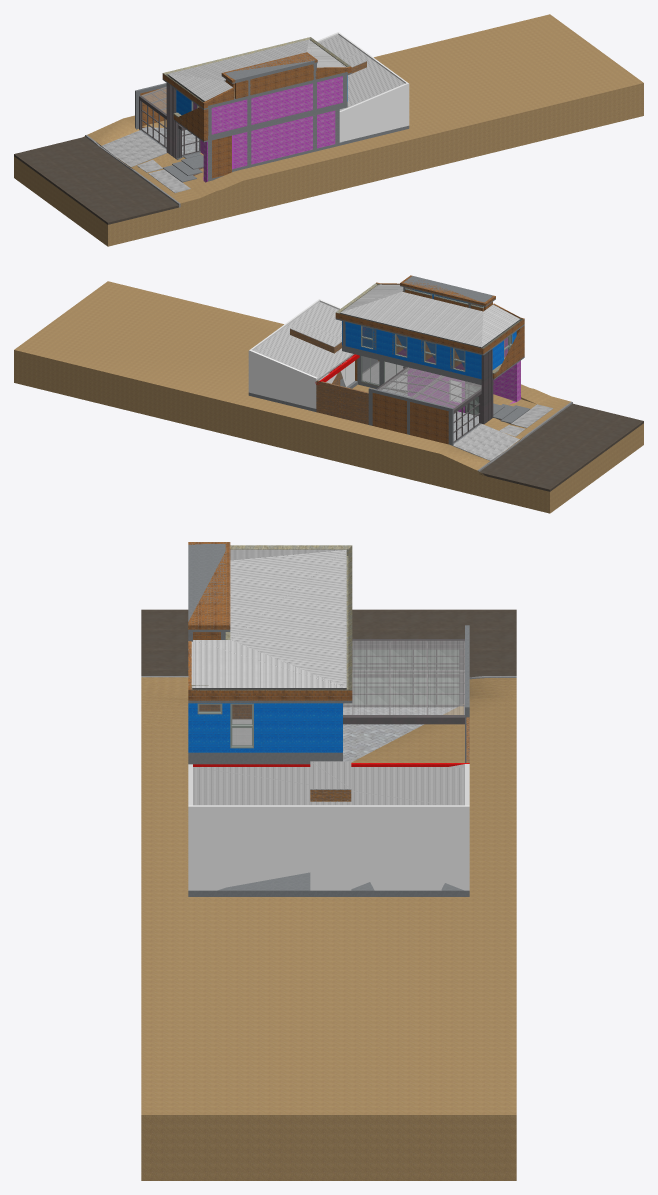
3 views of the same model, one above another, from view 1: azimuth 30°, elevation 25°; view 2: azimuth 150°, elevation 25°; view 3: azimuth 270°, elevation 25° (orthographic). The views are drawn at different scales.
Parts seen in each view (by area): view 1: Mesh262 Diferencia Group73 Group70 Group69 Group33 Group1 Mo, Mesh342 Group123 Group70 Group69 Group33 Group1 Model, Mesh30 Group32 Group2 Group1 Model, Mesh345 Group127 OuterShell Group124 Group70 Group69 Group33, Mesh297 Diferencia6 Group74 Group70 Group69 Group33 Group1 M, Mesh364 Group130 Group129 Group128 Group124 Group70 Group69 , Mesh302 Diferencia6 Group74 Group70 Group69 Group33 Group1 M, Mesh329 Group110 Group108 Group74 Group70 Group69 Group33 Gr, Mesh311 Diferencia7 Group74 Group70 Group69 Group33 Group1 M, Mesh300 Diferencia6 Group74 Group70 Group69 Group33 Group1 M, Mesh466 Group162 Componente_3_1 Group1 Model, Mesh467 Group163 Componente_3_1 Group1 Model (+15 smaller); view 2: Mesh262 Diferencia Group73 Group70 Group69 Group33 Group1 Mo, Mesh342 Group123 Group70 Group69 Group33 Group1 Model, Mesh30 Group32 Group2 Group1 Model, Mesh345 Group127 OuterShell Group124 Group70 Group69 Group33, Mesh364 Group130 Group129 Group128 Group124 Group70 Group69 , Mesh289 Diferencia5 Intersecci_n Group74 Group70 Group69 Gro, Mesh67 Group59 Group33 Group1 Model, Mesh325 Group106 Group74 Group70 Group69 Group33 Group1 Mode, Mesh310 Diferencia7 Group74 Group70 Group69 Group33 Group1 M, Mesh329 Group110 Group108 Group74 Group70 Group69 Group33 Gr, Mesh324 Group106 Group74 Group70 Group69 Group33 Group1 Mode, Mesh507 Group205 Group200 Componente_3_1 Group1 Model (+16 smaller); view 3: Mesh262 Diferencia Group73 Group70 Group69 Group33 Group1 Mo, Mesh345 Group127 OuterShell Group124 Group70 Group69 Group33, Mesh30 Group32 Group2 Group1 Model, Mesh342 Group123 Group70 Group69 Group33 Group1 Model, Mesh364 Group130 Group129 Group128 Group124 Group70 Group69 , Mesh289 Diferencia5 Intersecci_n Group74 Group70 Group69 Gro, Mesh506 Group205 Group200 Componente_3_1 Group1 Model, Mesh507 Group205 Group200 Componente_3_1 Group1 Model, Mesh343 Group125 Group124 Group70 Group69 Group33 Group1 Mod, Mesh277 Group86 Group85 Group74 Group70 Group69 Group33 Grou, Mesh317 Group99 Group74 Group70 Group69 Group33 Group1 Model, Mesh467 Group163 Componente_3_1 Group1 Model (+6 smaller).
Boxes of the visible parts, x1,y1,x2,y2 form: Mesh262 Diferencia Group73 Group70 Group69 Group33 Group1 Mo: [14, 14, 643, 246]; Mesh342 Group123 Group70 Group69 Group33 Group1 Model: [14, 137, 178, 224]; Mesh30 Group32 Group2 Group1 Model: [167, 39, 346, 101]; Mesh345 Group127 OuterShell Group124 Group70 Group69 Group33: [316, 32, 409, 142]; Mesh297 Diferencia6 Group74 Group70 Group69 Group33 Group1 M: [251, 116, 312, 164]; Mesh364 Group130 Group129 Group128 Group124 Group70 Group69 : [319, 34, 404, 110]; Mesh302 Diferencia6 Group74 Group70 Group69 Group33 Group1 M: [251, 83, 312, 124]; Mesh329 Group110 Group108 Group74 Group70 Group69 Group33 Gr: [102, 130, 166, 167]; Mesh311 Diferencia7 Group74 Group70 Group69 Group33 Group1 M: [250, 64, 313, 95]; Mesh300 Diferencia6 Group74 Group70 Group69 Group33 Group1 M: [211, 99, 247, 134]; Mesh466 Group162 Componente_3_1 Group1 Model: [173, 101, 347, 142]; Mesh467 Group163 Componente_3_1 Group1 Model: [221, 54, 317, 83]; Mesh262 Diferencia Group73 Group70 Group69 Group33 Group1 Mo: [14, 281, 643, 513]; Mesh342 Group123 Group70 Group69 Group33 Group1 Model: [479, 403, 643, 491]; Mesh30 Group32 Group2 Group1 Model: [340, 284, 520, 347]; Mesh345 Group127 OuterShell Group124 Group70 Group69 Group33: [248, 299, 354, 408]; Mesh364 Group130 Group129 Group128 Group124 Group70 Group69 : [253, 301, 354, 380]; Mesh289 Diferencia5 Intersecci_n Group74 Group70 Group69 Gro: [342, 321, 516, 379]; Mesh67 Group59 Group33 Group1 Model: [407, 360, 520, 412]; Mesh325 Group106 Group74 Group70 Group69 Group33 Group1 Mode: [316, 380, 368, 424]; Mesh310 Diferencia7 Group74 Group70 Group69 Group33 Group1 M: [335, 282, 524, 353]; Mesh329 Group110 Group108 Group74 Group70 Group69 Group33 Gr: [453, 424, 519, 460]; Mesh324 Group106 Group74 Group70 Group69 Group33 Group1 Mode: [410, 402, 448, 444]; Mesh507 Group205 Group200 Componente_3_1 Group1 Model: [411, 375, 481, 407]; Mesh262 Diferencia Group73 Group70 Group69 Group33 Group1 Mo: [141, 677, 516, 1180]; Mesh345 Group127 OuterShell Group124 Group70 Group69 Group33: [188, 764, 469, 890]; Mesh30 Group32 Group2 Group1 Model: [191, 549, 346, 689]; Mesh342 Group123 Group70 Group69 Group33 Group1 Model: [141, 609, 516, 677]; Mesh364 Group130 Group129 Group128 Group124 Group70 Group69 : [193, 767, 464, 805]; Mesh289 Diferencia5 Intersecci_n Group74 Group70 Group69 Gro: [188, 703, 342, 752]; Mesh506 Group205 Group200 Componente_3_1 Group1 Model: [343, 670, 464, 714]; Mesh507 Group205 Group200 Componente_3_1 Group1 Model: [352, 640, 464, 670]; Mesh343 Group125 Group124 Group70 Group69 Group33 Group1 Mod: [188, 872, 469, 896]; Mesh277 Group86 Group85 Group74 Group70 Group69 Group33 Grou: [343, 707, 456, 762]; Mesh317 Group99 Group74 Group70 Group69 Group33 Group1 Model: [188, 542, 230, 629]; Mesh467 Group163 Componente_3_1 Group1 Model: [188, 544, 230, 631].
Bounding box in the file's own units: 52.75 × 11.68 × 16.
33 materials, 29 textured.
